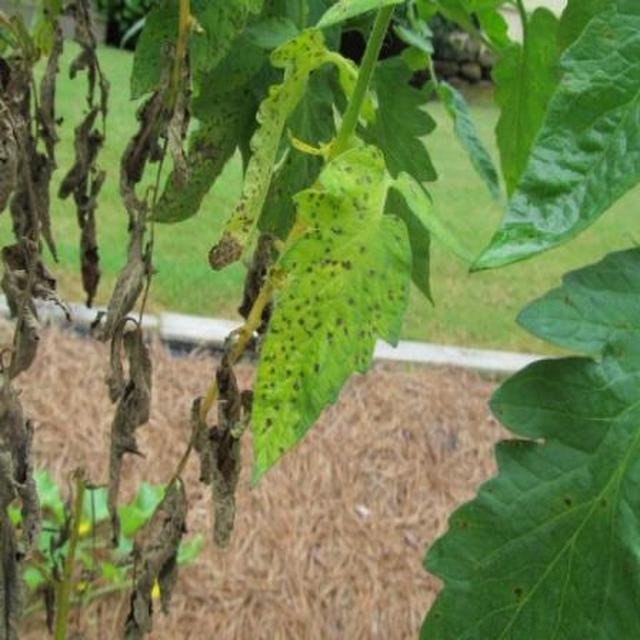Septoria Leaf: (182, 198, 640, 629)
